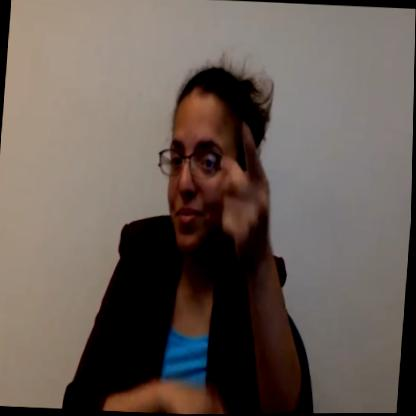HowAreYou: (155, 116, 292, 415)
